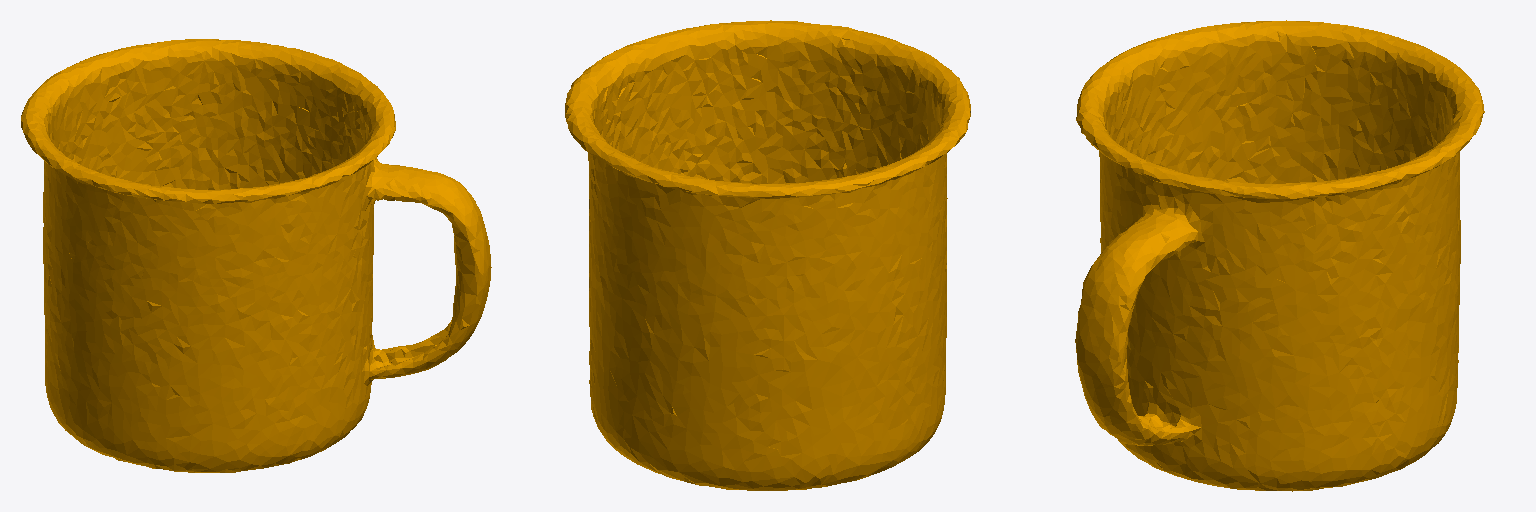
The robot description file, URDF, robot "root":
<robot name="root">
  <link name="link_original">
    <visual>
      <origin xyz="0 0 0" rpy="0 0 0"/>
      <geometry>
        <mesh filename="textured.obj" scale="1.0000E+00 1.0000E+00 1.0000E+00"/>
      </geometry>
    </visual>
    <inertial>
      <origin xyz="0 0 0" rpy="0 0 0"/>
      <mass value="1.3812E-01"/>
      <inertia ixx="1.25E-04" ixy="7.85E-06" ixz="-4.46E-06" iyy="1.29E-04" iyz="-5.06E-07" izz="1.72E-04"/>
    </inertial>
    <collision>
      <origin xyz="0 0 0" rpy="0 0 0"/>
      <geometry>
        <mesh filename="coacd_allinone.obj" scale="1.0000E+00 1.0000E+00 1.0000E+00"/>
      </geometry>
    </collision>
  </link>
</robot>

--- Facts derived from the render (not from the file) ---
The picture shows the robot from 3 angles, left to right: view 1: azimuth 30°, elevation 25°; view 2: azimuth 150°, elevation 25°; view 3: azimuth 270°, elevation 25°; orthographic projection.
Robot: root — 1 links, 0 joints (none); root link link_original; default pose: all joints at 0.
Visible links, largest first — view 1: link_original; view 2: link_original; view 3: link_original.
Link boxes in pixels (x1,y1,x2,y2): link_original: [21, 39, 491, 472]; link_original: [565, 20, 970, 490]; link_original: [1075, 20, 1484, 491].
Bounding box of the posed robot: 0.1051 × 0.0933 × 0.0813 m (x, y, z).
1 mesh visuals loaded from 1 distinct referenced files (1 OBJ).
